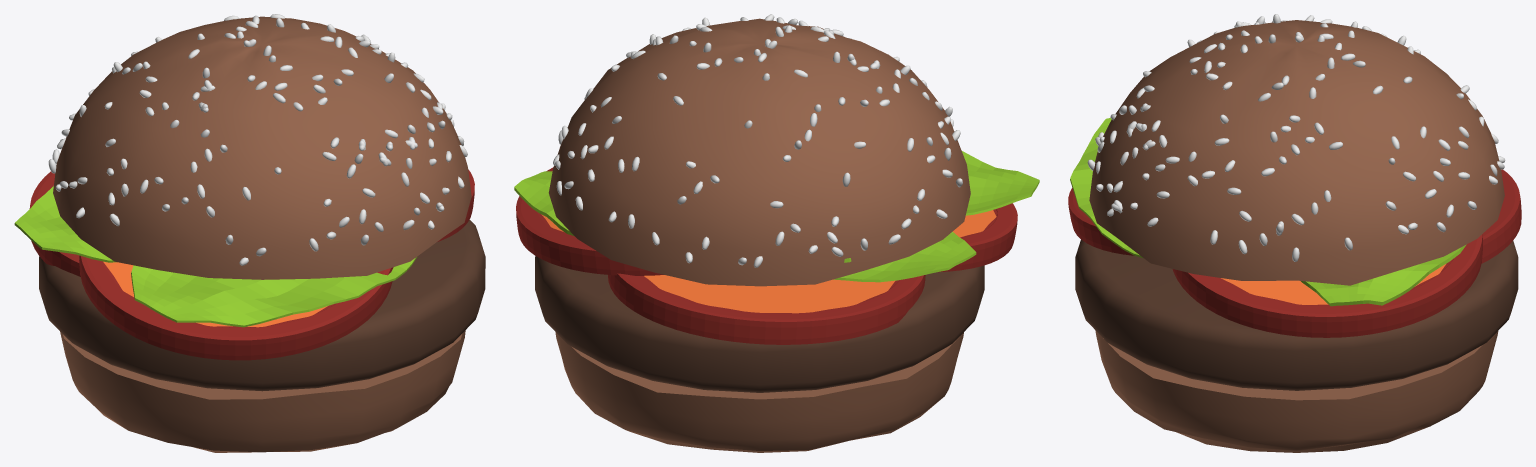
File: Burger.fbx
3 renders of one model, left to right at view 1: azimuth 30°, elevation 25°; view 2: azimuth 150°, elevation 25°; view 3: azimuth 270°, elevation 25°, orthographic.
Visible parts, largest first — view 1: TopBun, Borgar, Sphere, Tomato.002, Plane.002, Plane, Tomato.001; view 2: TopBun, Borgar, Sphere, Tomato.001, Tomato, Tomato.002, Plane, Plane.002, Plane.004; view 3: TopBun, Borgar, Sphere, Tomato, Plane.004, Tomato.001, Plane.002, Tomato.002.
Boxes of the visible parts, left/top/right/bottom form: TopBun: left=53, top=16, right=471, bottom=279; Borgar: left=39, top=219, right=485, bottom=391; Sphere: left=60, top=330, right=465, bottom=452; Tomato.002: left=79, top=255, right=393, bottom=360; Plane.002: left=131, top=257, right=416, bottom=327; Plane: left=14, top=186, right=116, bottom=262; Tomato.001: left=29, top=171, right=80, bottom=276; TopBun: left=548, top=18, right=970, bottom=286; Borgar: left=535, top=256, right=984, bottom=392; Sphere: left=555, top=332, right=963, bottom=452; Tomato.001: left=608, top=273, right=925, bottom=344; Tomato: left=516, top=167, right=663, bottom=275; Tomato.002: left=938, top=203, right=1017, bottom=272; Plane: left=833, top=231, right=976, bottom=282; Plane.002: left=962, top=151, right=1039, bottom=215; Plane.004: left=514, top=171, right=851, bottom=262; TopBun: left=1089, top=20, right=1504, bottom=285; Borgar: left=1075, top=239, right=1518, bottom=390; Sphere: left=1095, top=330, right=1498, bottom=452; Tomato: left=1172, top=234, right=1482, bottom=337; Plane.004: left=1301, top=244, right=1466, bottom=306; Tomato.001: left=1481, top=169, right=1521, bottom=263; Plane.002: left=1070, top=118, right=1143, bottom=258; Tomato.002: left=1068, top=188, right=1134, bottom=255.
Bounding box in the file's own units: 3600 × 2788 × 3358.
